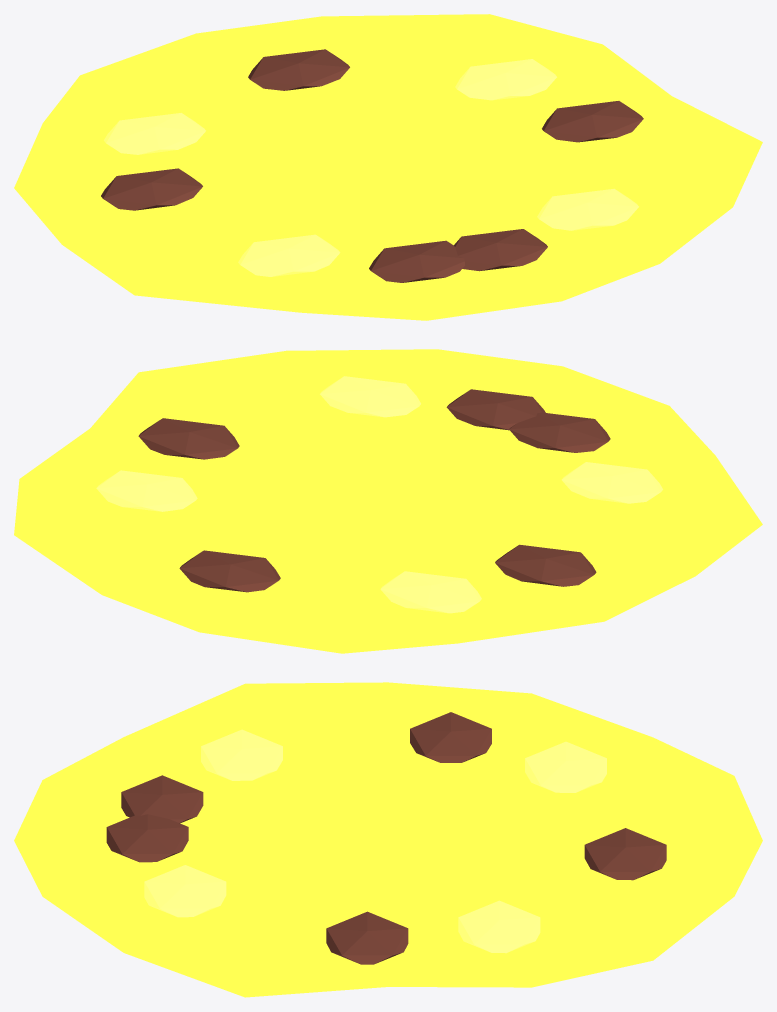
File: LavaPool.fbx
3 views of the same model, one above another, from view 1: azimuth 30°, elevation 25°; view 2: azimuth 150°, elevation 25°; view 3: azimuth 270°, elevation 25° (orthographic). The views are drawn at different scales.
Parts seen in each view (by area): view 1: LavaSurface, MoltenPatch3, MoltenPatch5, MoltenPatch6, MoltenPatch1, MoltenPatch2, MoltenPatch4, MoltenPatch7, MoltenPatch8, MoltenPatch0; view 2: LavaSurface, MoltenPatch1, MoltenPatch4, MoltenPatch6, MoltenPatch2, MoltenPatch7, MoltenPatch3, MoltenPatch5, MoltenPatch8, MoltenPatch0; view 3: LavaSurface, MoltenPatch2, MoltenPatch7, MoltenPatch5, MoltenPatch4, MoltenPatch1, MoltenPatch3, MoltenPatch6, MoltenPatch0, MoltenPatch8.
Part boxes in pixels (x1,y1,x2,y2): LavaSurface: (14,14,762,320); MoltenPatch3: (238,234,340,276); MoltenPatch5: (537,188,638,230); MoltenPatch6: (101,168,202,210); MoltenPatch1: (104,113,205,154); MoltenPatch2: (542,101,643,142); MoltenPatch4: (248,49,349,90); MoltenPatch7: (455,59,556,100); MoltenPatch8: (369,240,464,282); MoltenPatch0: (454,229,547,271); LavaSurface: (14,349,762,653); MoltenPatch1: (380,571,481,613); MoltenPatch4: (179,550,280,592); MoltenPatch6: (495,544,596,586); MoltenPatch2: (138,418,239,459); MoltenPatch7: (96,470,197,511); MoltenPatch3: (561,462,662,503); MoltenPatch5: (320,376,420,417); MoltenPatch8: (509,412,610,452); MoltenPatch0: (446,389,545,430); LavaSurface: (14,682,762,997); MoltenPatch2: (326,911,408,964); MoltenPatch7: (458,900,540,953); MoltenPatch5: (144,865,226,917); MoltenPatch4: (584,828,666,880); MoltenPatch1: (525,741,606,792); MoltenPatch3: (201,729,282,780); MoltenPatch6: (410,712,491,762); MoltenPatch0: (106,814,188,862); MoltenPatch8: (121,775,203,823).
Bounding box in the file's own units: 2.79 × 0.07 × 2.8.
